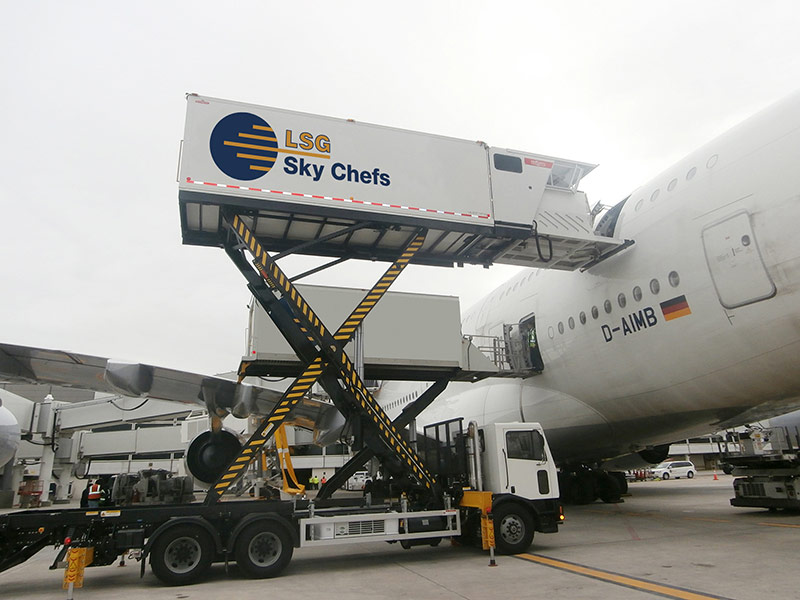Catering truck: (144, 54, 645, 597)
